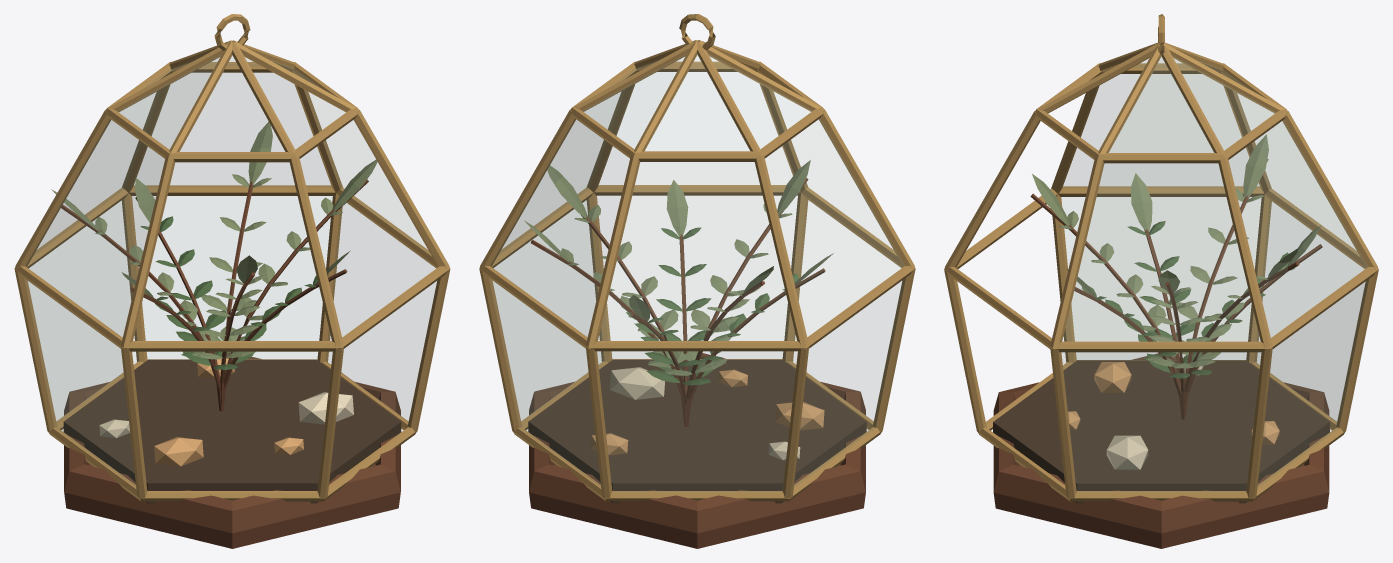
File: 021_geometric_terrarium_v01.glb
3 views of the same model, side by side, from view 1: azimuth 30°, elevation 25°; view 2: azimuth 150°, elevation 25°; view 3: azimuth 270°, elevation 25° (orthographic).
Visible parts, largest first — view 1: Terrarium soil bed, Terrarium pale frosted rear glass.004, Terrarium pale frosted rear glass.001, Hexagonal terrarium base tray, Terrarium pale frosted rear glass.006, Terrarium pale frosted rear glass.002, Terrarium pale frosted rear glass.005, Terrarium pale frosted rear glass, Terrarium polygon perimeter 1, Terrarium pale frosted rear glass.007, Terrarium pale frosted rear glass.003, Terrarium polygon perimeter 0 (+31 smaller); view 2: Terrarium pale frosted rear glass.003, Terrarium soil bed, Terrarium pale frosted rear glass.002, Terrarium pale frosted rear glass.001, Terrarium pale frosted rear glass.005, Hexagonal terrarium base tray, Terrarium pale frosted rear glass.006, Terrarium pale frosted rear glass, Terrarium pale frosted rear glass.004, Terrarium polygon perimeter 1, Terrarium roof glazing.001, Terrarium pale frosted rear glass.007 (+32 smaller); view 3: Terrarium soil bed, Terrarium pale frosted rear glass.007, Terrarium pale frosted rear glass.006, Terrarium pale frosted rear glass, Terrarium pale frosted rear glass.005, Hexagonal terrarium base tray, Terrarium pale frosted rear glass.001, Terrarium pale frosted rear glass.002, Terrarium pale frosted rear glass.004, Terrarium polygon perimeter 1, Terrarium roof glazing.003, Terrarium pale frosted rear glass.003 (+29 smaller).
Boxes of the visible parts, box(x1,y1,x2,y2) form: Terrarium soil bed: box(63, 359, 401, 503); Terrarium pale frosted rear glass.004: box(132, 196, 332, 358); Terrarium pale frosted rear glass.001: box(26, 119, 164, 336); Hexagonal terrarium base tray: box(64, 352, 400, 548); Terrarium pale frosted rear glass.006: box(326, 203, 436, 421); Terrarium pale frosted rear glass.002: box(29, 200, 138, 420); Terrarium pale frosted rear glass.005: box(134, 73, 330, 186); Terrarium pale frosted rear glass: box(25, 279, 135, 486); Terrarium polygon perimeter 1: box(14, 185, 450, 351); Terrarium pale frosted rear glass.007: box(305, 91, 430, 254); Terrarium pale frosted rear glass.003: box(35, 91, 159, 253); Terrarium polygon perimeter 0: box(48, 359, 416, 501); Terrarium pale frosted rear glass.003: box(598, 162, 796, 340); Terrarium soil bed: box(528, 359, 866, 503); Terrarium pale frosted rear glass.002: box(597, 352, 797, 491); Terrarium pale frosted rear glass.001: box(765, 119, 904, 336); Terrarium pale frosted rear glass.005: box(490, 119, 629, 336); Hexagonal terrarium base tray: box(529, 353, 865, 548); Terrarium pale frosted rear glass.006: box(493, 199, 603, 420); Terrarium pale frosted rear glass: box(794, 278, 905, 486); Terrarium pale frosted rear glass.004: box(489, 278, 600, 486); Terrarium polygon perimeter 1: box(479, 185, 915, 351); Terrarium roof glazing.001: box(645, 54, 749, 150); Terrarium pale frosted rear glass.007: box(500, 90, 624, 253); Terrarium soil bed: box(993, 360, 1329, 503); Terrarium pale frosted rear glass.007: box(1063, 164, 1259, 340); Terrarium pale frosted rear glass.006: box(1062, 353, 1260, 491); Terrarium pale frosted rear glass: box(1062, 197, 1260, 359); Terrarium pale frosted rear glass.005: box(1229, 120, 1367, 337); Hexagonal terrarium base tray: box(993, 353, 1329, 548); Terrarium pale frosted rear glass.001: box(1063, 74, 1259, 187); Terrarium pale frosted rear glass.002: box(1255, 201, 1364, 421); Terrarium pale frosted rear glass.004: box(1258, 280, 1368, 486); Terrarium polygon perimeter 1: box(944, 186, 1378, 352); Terrarium roof glazing.003: box(1109, 56, 1213, 152); Terrarium pale frosted rear glass.003: box(1233, 91, 1357, 254).
Bounding box in the file's own units: 0.32 × 0.4119 × 0.359.
